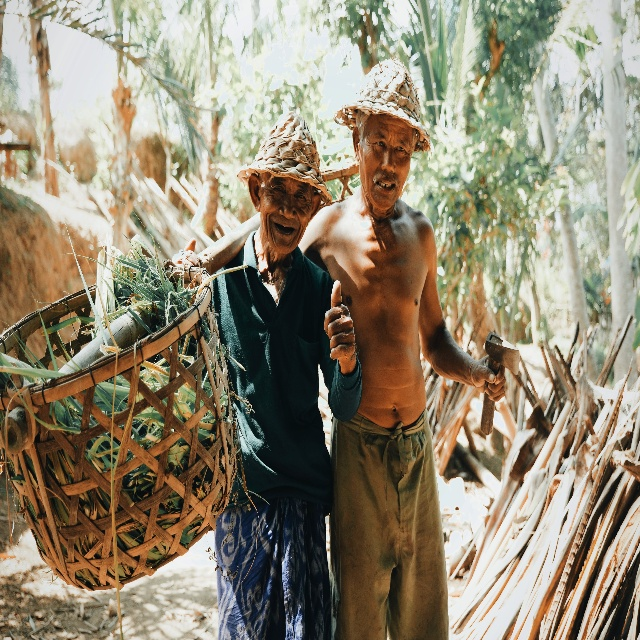Sin_guantes: (324, 279, 357, 363), (469, 349, 507, 404), (170, 237, 204, 272)
